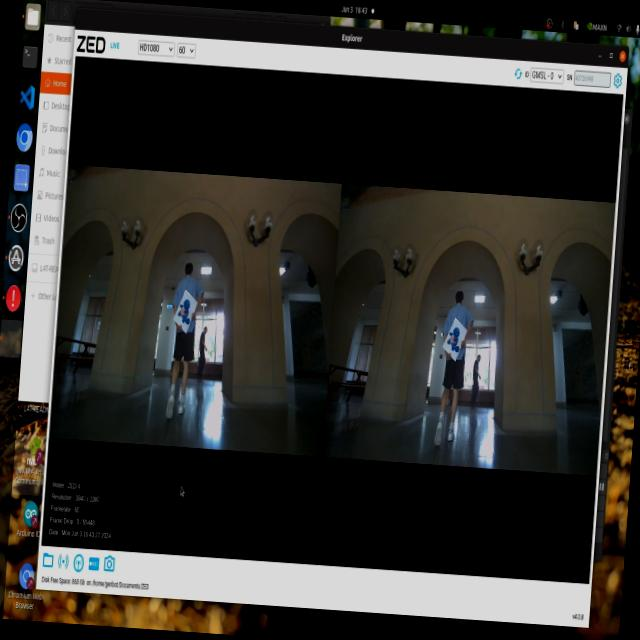blue: (442, 312, 466, 360), (177, 297, 200, 327)
